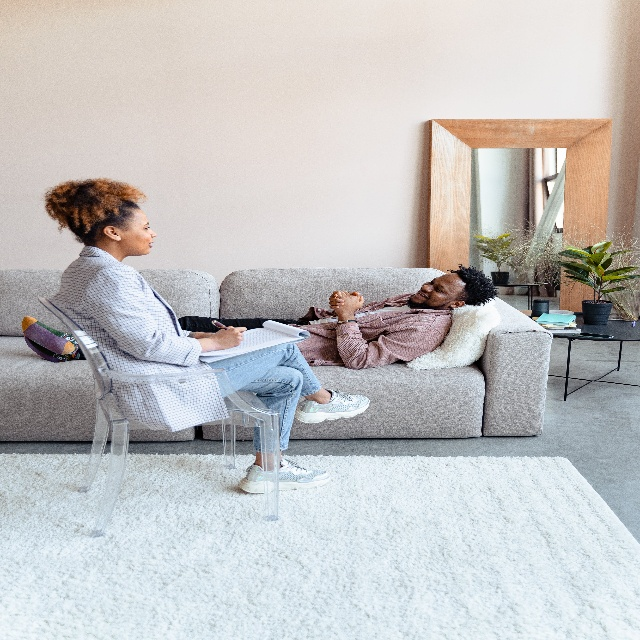Sin_guantes: (332, 286, 365, 320), (210, 322, 247, 350), (328, 286, 360, 311)
